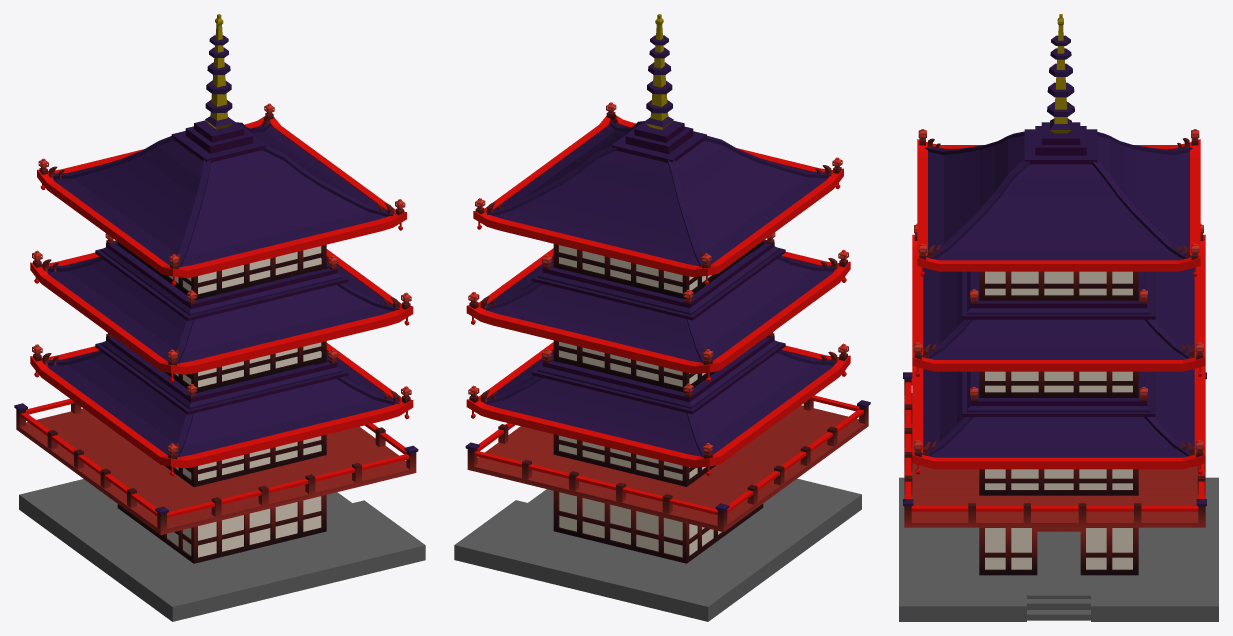
Rendered from Raven_Pagoda 1.fbx.
3 renders of one model, left to right at view 1: azimuth 30°, elevation 25°; view 2: azimuth 150°, elevation 25°; view 3: azimuth 270°, elevation 25°, orthographic. The views are drawn at different scales.
Visible parts, largest first — view 1: Cube.022, Cube, Cube.031, Cube.015, Cube.008, Cube.021, Cube.014, Cube.030, Cube.002, Cube.010, Cube.023, Cube.003 (+15 smaller); view 2: Cube.022, Cube, Cube.031, Cube.015, Cube.008, Cube.021, Cube.030, Cube.014, Cube.002, Cube.010, Cube.003, Cube.023 (+15 smaller); view 3: Cube.022, Cube, Cube.031, Cube.015, Cube.008, Cube.021, Cube.030, Cube.014, Cube.002, Cube.023, Cube.013, Cube.003 (+16 smaller).
Part boxes in pixels (bbox=[...]): Cube.022: bbox=[53, 14, 386, 266]; Cube: bbox=[19, 479, 425, 621]; Cube.031: bbox=[47, 240, 392, 363]; Cube.015: bbox=[47, 336, 392, 456]; Cube.008: bbox=[14, 402, 418, 534]; Cube.021: bbox=[37, 116, 406, 285]; Cube.014: bbox=[30, 343, 413, 476]; Cube.030: bbox=[30, 249, 413, 382]; Cube.002: bbox=[167, 496, 321, 557]; Cube.010: bbox=[21, 399, 409, 517]; Cube.023: bbox=[53, 122, 394, 267]; Cube.003: bbox=[117, 495, 326, 563]; Cube.022: bbox=[494, 14, 827, 266]; Cube: bbox=[454, 478, 861, 621]; Cube.031: bbox=[487, 239, 833, 362]; Cube.015: bbox=[487, 336, 833, 456]; Cube.008: bbox=[465, 399, 870, 532]; Cube.021: bbox=[473, 115, 843, 284]; Cube.030: bbox=[466, 248, 850, 382]; Cube.014: bbox=[466, 342, 850, 476]; Cube.002: bbox=[559, 492, 721, 557]; Cube.010: bbox=[474, 395, 863, 514]; Cube.003: bbox=[553, 491, 763, 563]; Cube.023: bbox=[486, 121, 831, 266]; Cube.022: bbox=[928, 14, 1189, 260]; Cube: bbox=[899, 477, 1218, 621]; Cube.031: bbox=[923, 267, 1194, 359]; Cube.015: bbox=[923, 369, 1194, 457]; Cube.008: bbox=[903, 372, 1206, 527]; Cube.021: bbox=[917, 139, 1200, 276]; Cube.030: bbox=[912, 234, 1205, 376]; Cube.014: bbox=[912, 365, 1205, 474]; Cube.002: bbox=[985, 528, 1132, 569]; Cube.023: bbox=[925, 131, 1192, 259]; Cube.013: bbox=[985, 271, 1132, 295]; Cube.003: bbox=[979, 527, 1138, 575].
Size of the model in its own units: 1544 by 2910 by 1557.
8 materials, 2 textured.
